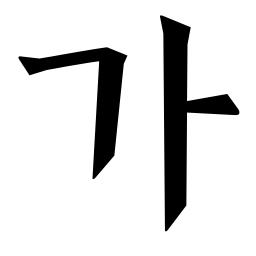Gaji: (145, 82, 211, 135)
